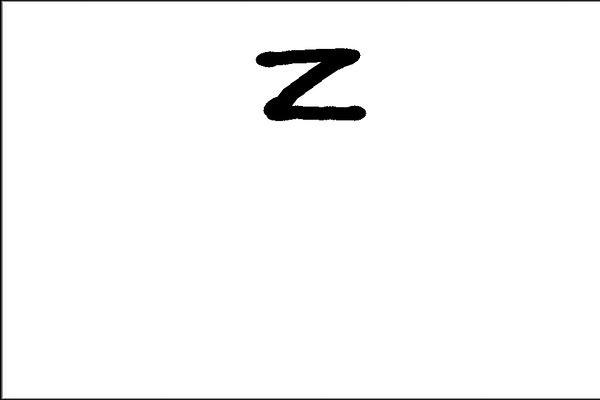Z: (250, 41, 373, 126)
